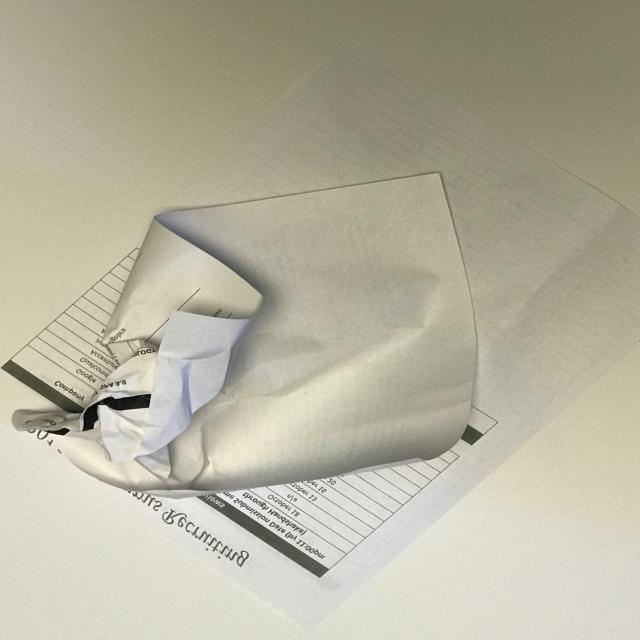paper: (0, 49, 640, 620)
